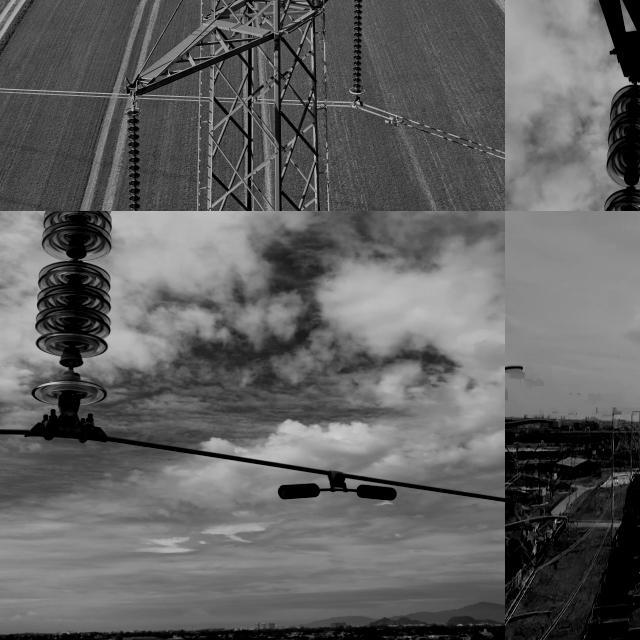杆塔: (68, 0, 401, 211)
正常电缆: (0, 79, 505, 171), (0, 423, 505, 511)
正常绝缘子: (22, 211, 125, 444), (592, 57, 640, 211), (120, 94, 151, 211), (346, 0, 371, 108), (532, 532, 560, 575), (517, 436, 543, 478), (515, 530, 537, 572), (505, 440, 522, 473), (532, 628, 543, 640)
绝缘子破损: (60, 353, 84, 378), (66, 245, 88, 261), (623, 173, 638, 193)
